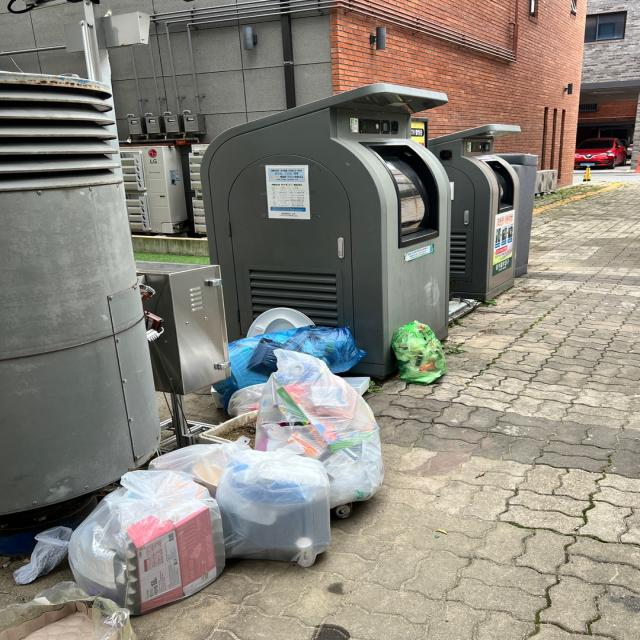CleanNet: (193, 67, 474, 385), (432, 114, 524, 310)
General Waste: (43, 461, 235, 613), (148, 429, 340, 578), (227, 346, 387, 520), (210, 316, 366, 409), (380, 320, 457, 397)
